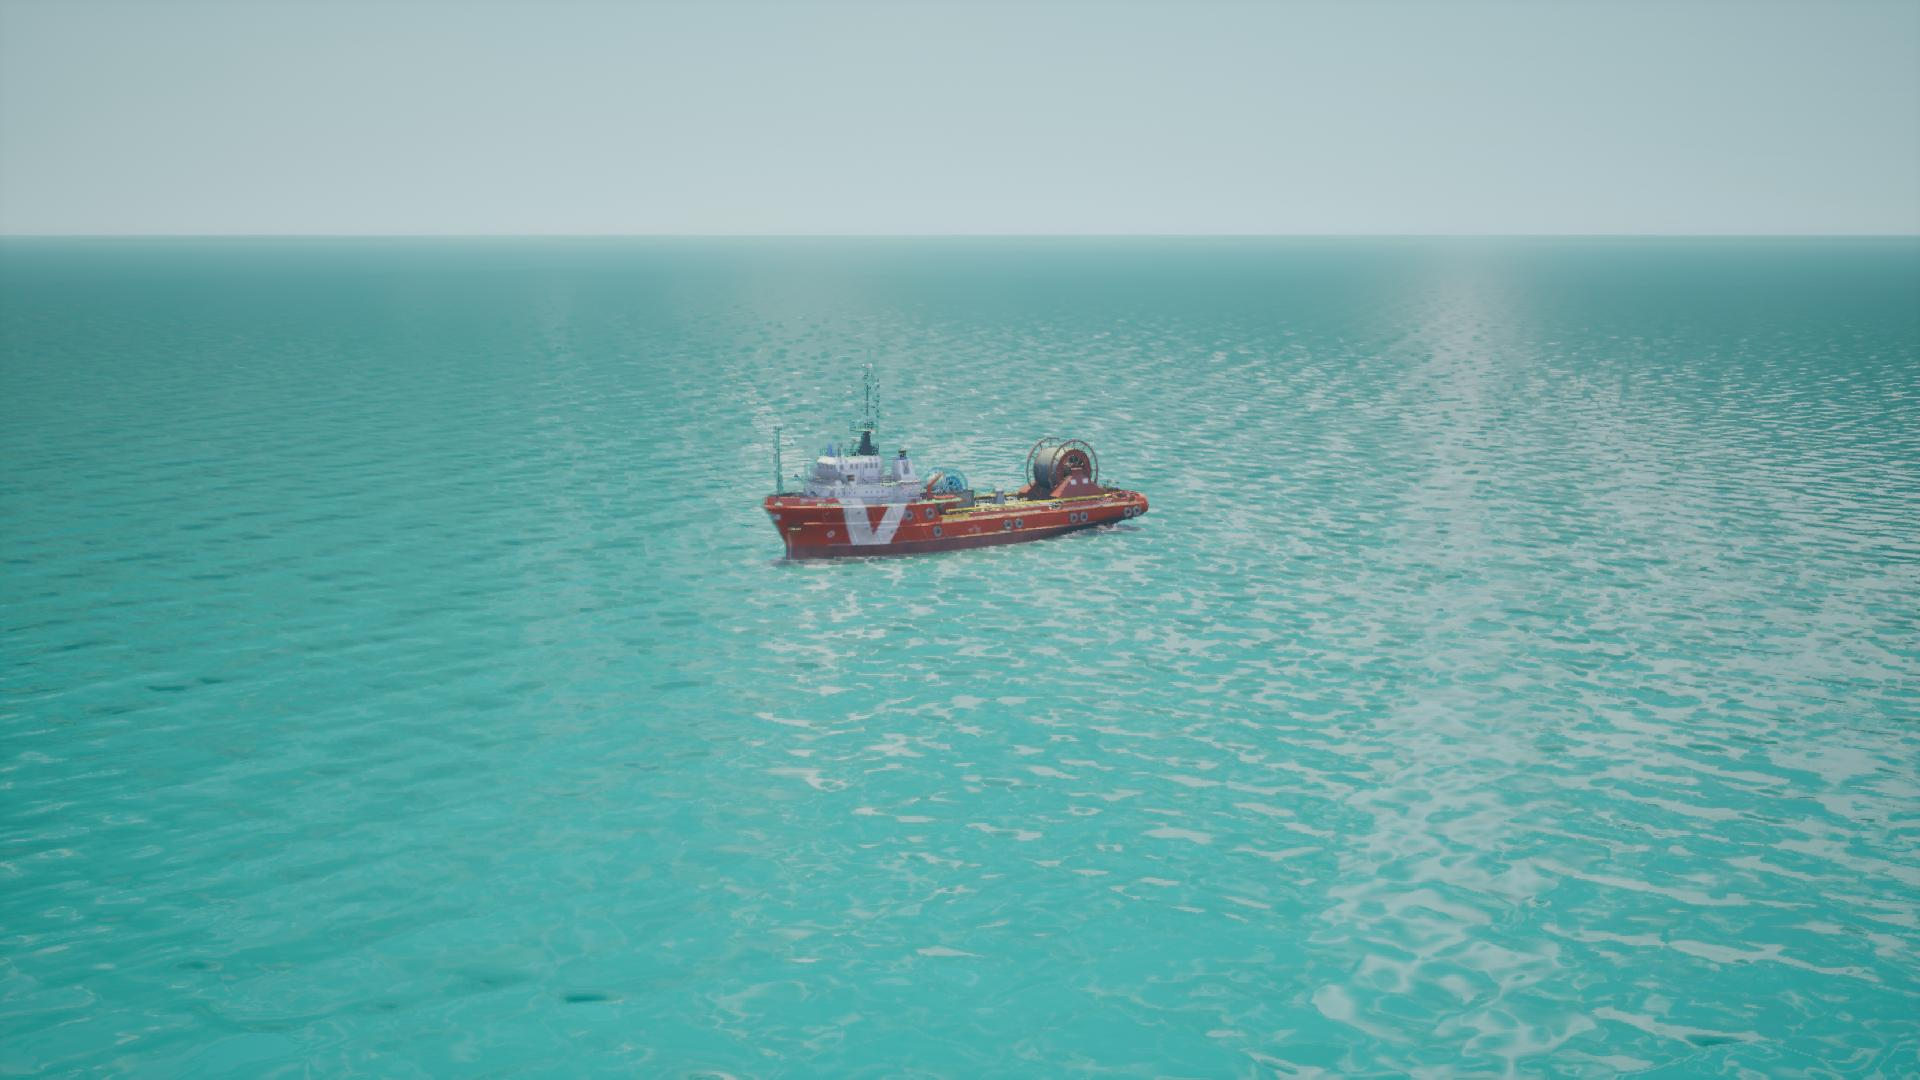Tug Boat: (752, 365, 1149, 571)
